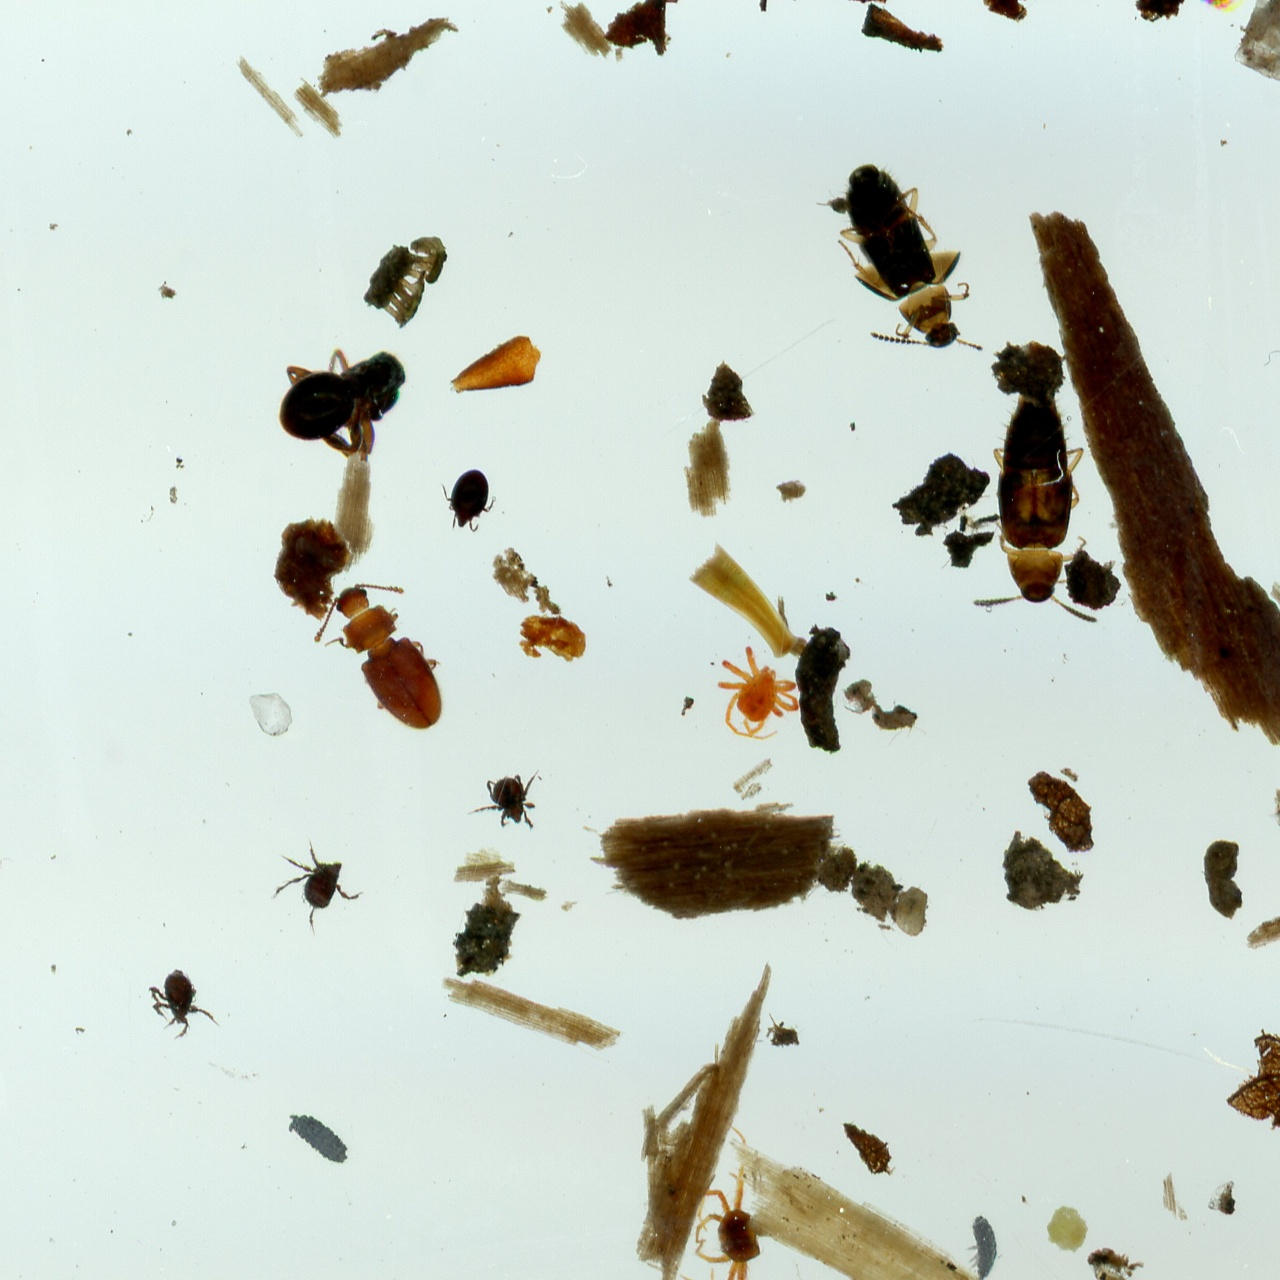arthropod: (810, 138, 1006, 393), (297, 561, 471, 760), (253, 318, 438, 491), (971, 392, 1101, 636), (646, 1128, 765, 1280), (689, 632, 821, 762), (268, 833, 363, 935), (275, 1099, 362, 1173), (145, 965, 223, 1042), (461, 765, 542, 832), (440, 465, 499, 535), (965, 1211, 1000, 1280), (1077, 1248, 1148, 1280), (1193, 0, 1248, 11)
